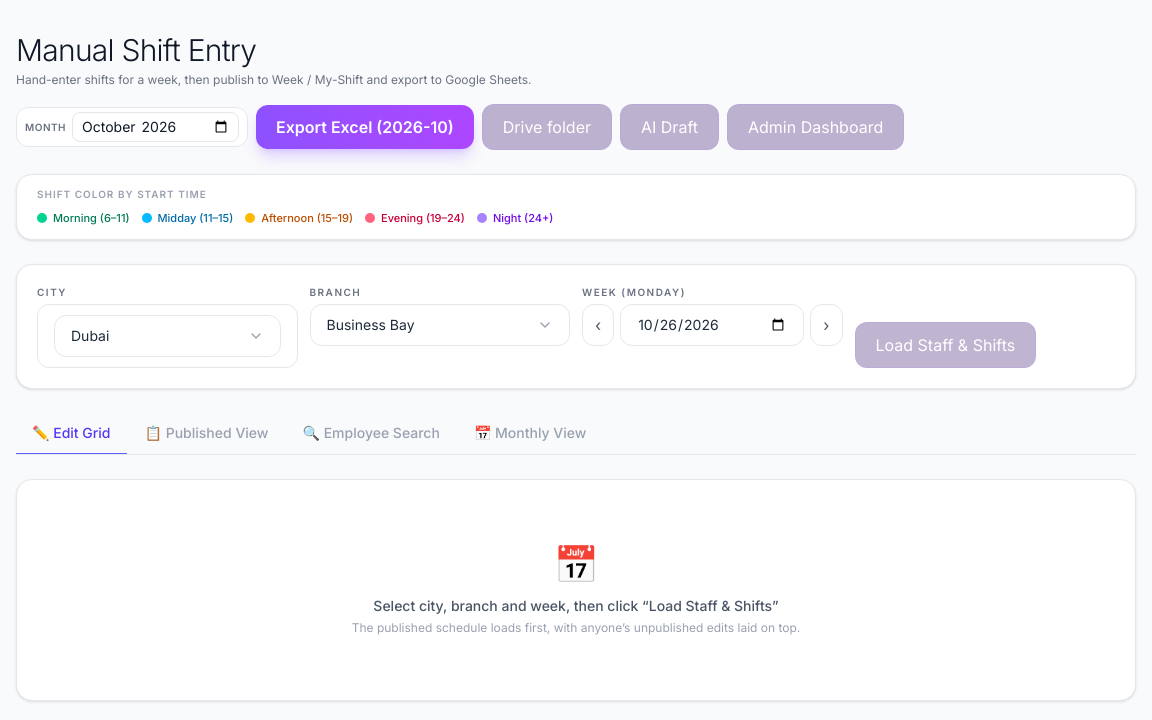
Test: ManualShiftPage — branch dropdown › selecting a branch from dropdown updates the branch button label
The image size is (1152, 720).
Click the button "Business Bay": (371, 324) left=310, top=304, right=570, bottom=346
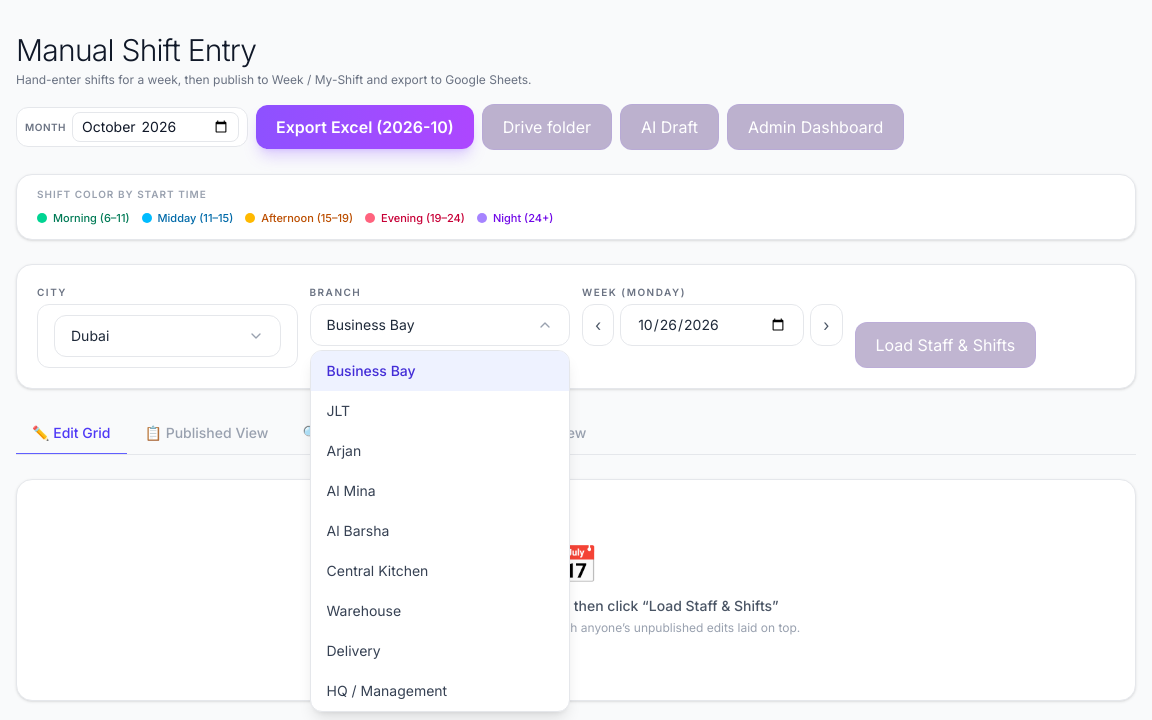
Result: the button "JLT" is shown
Note: Click JLT
Click the button "JLT": (440, 410) left=310, top=390, right=569, bottom=430
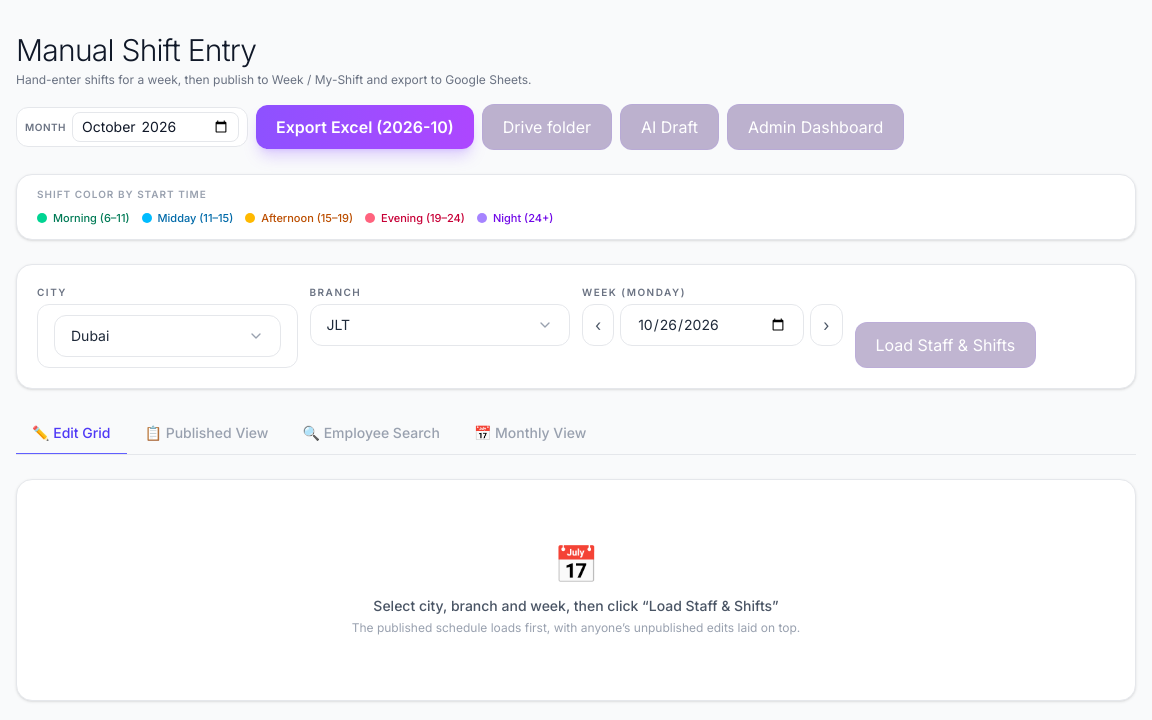
Result: the text "JLT" is shown at left=326, top=314, right=350, bottom=334
